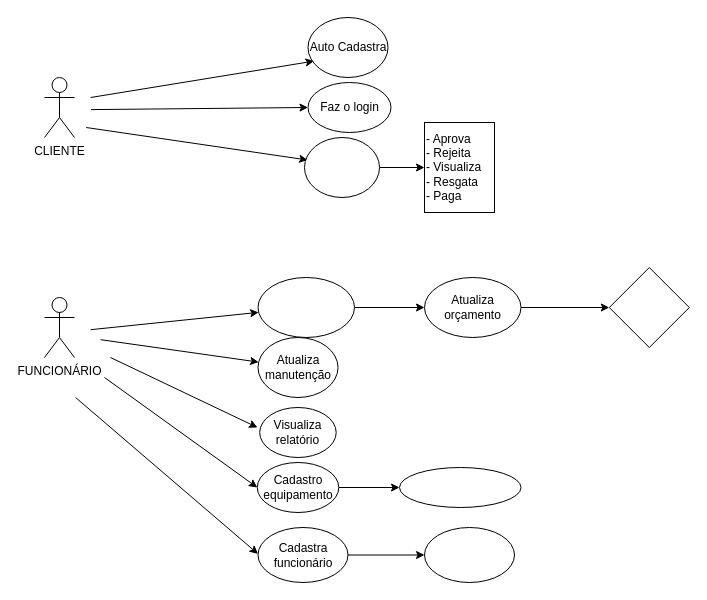
This 707x600 diagram has some shape labels left out. The shapes that lost their labels are listed below. From the top down, each one's box as (x1, y1, x2, y2) in pixels, then its label:
(304, 136, 380, 198): Solicita orçamento
(257, 276, 354, 338): Faz orçamento
(608, 266, 689, 348): Finaliza orçamento
(398, 466, 521, 508): Mantém equipamento
(424, 526, 514, 582): Mantém funcionário
